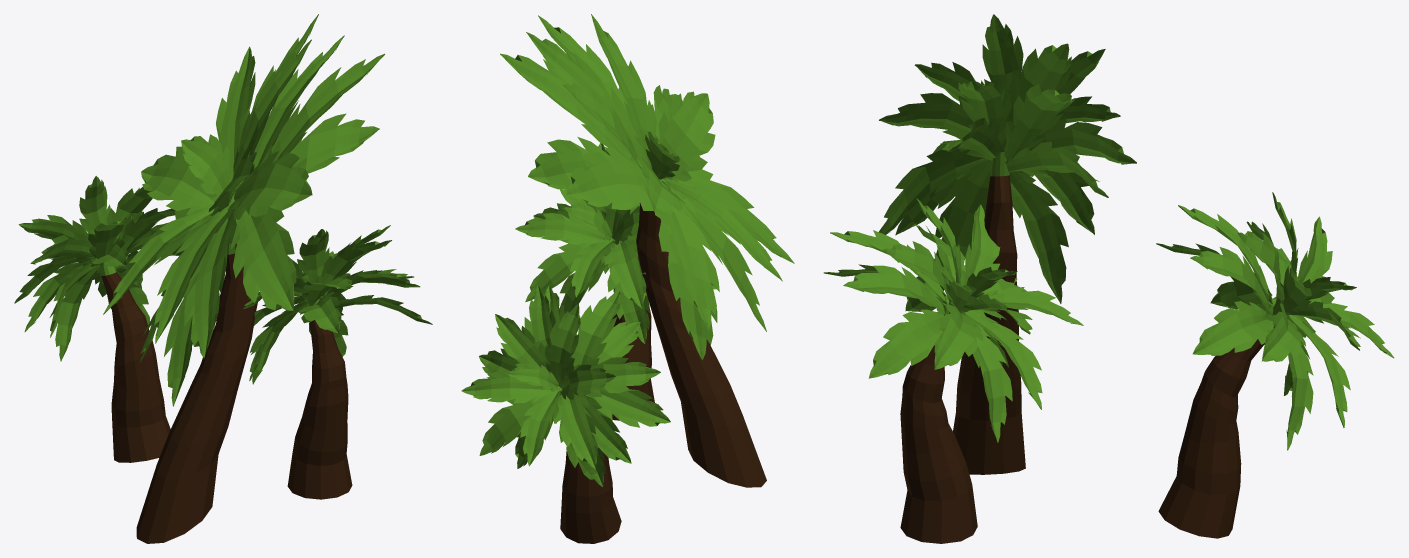
3 renders of one model, left to right at view 1: azimuth 30°, elevation 25°; view 2: azimuth 150°, elevation 25°; view 3: azimuth 270°, elevation 25°, orthographic. The views are drawn at different scales.
Parts seen in each view (by area): view 1: Medium Tree, Medium Tree.002, Medium Tree.001; view 2: Medium Tree, Medium Tree.002, Medium Tree.001; view 3: Medium Tree, Medium Tree.001, Medium Tree.002.
Boxes of the visible parts, <box> form: Medium Tree: <box>103,14,384,543</box>; Medium Tree.002: <box>14,176,184,462</box>; Medium Tree.001: <box>243,225,432,499</box>; Medium Tree: <box>500,14,794,487</box>; Medium Tree.002: <box>461,285,670,543</box>; Medium Tree.001: <box>515,143,716,420</box>; Medium Tree: <box>879,14,1136,474</box>; Medium Tree.001: <box>823,198,1083,543</box>; Medium Tree.002: <box>1156,192,1394,538</box>.
Bounding box in the file's own units: 1.62 × 2.48 × 2.27.
